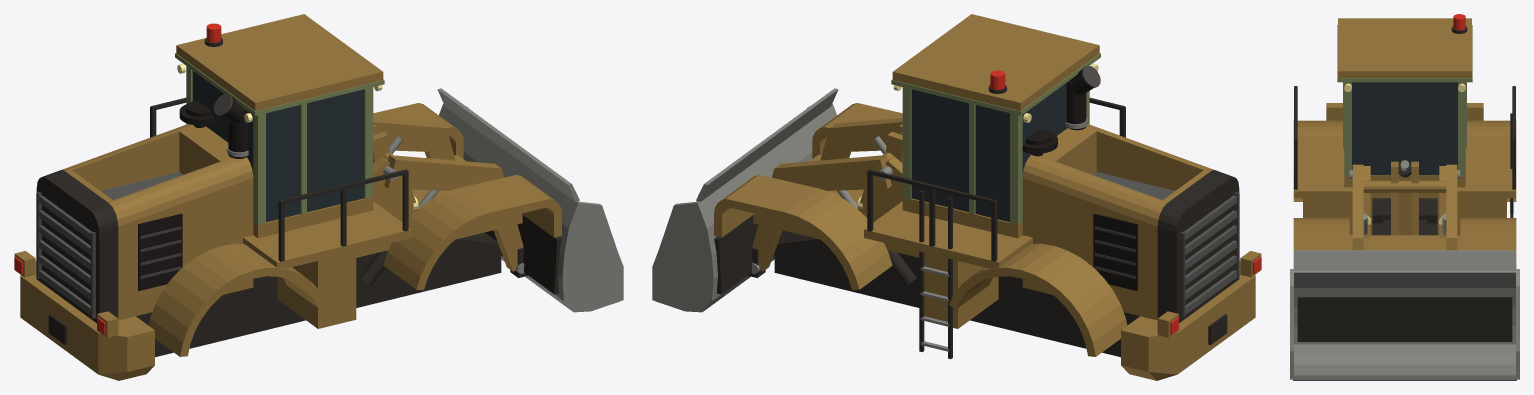
Rendered from base_loader.glb.
3 views of the same model, side by side, from view 1: azimuth 30°, elevation 25°; view 2: azimuth 150°, elevation 25°; view 3: azimuth 270°, elevation 25° (orthographic). The views are drawn at different scales.
Visible parts, largest first — view 1: base_loader; view 2: base_loader; view 3: base_loader.
Part boxes in pixels (x1,y1,x2,y2): base_loader: (14, 14, 623, 380); base_loader: (652, 14, 1261, 380); base_loader: (1290, 14, 1519, 380).
Bounding box in the file's own units: 6.28 × 3.36 × 2.95.
